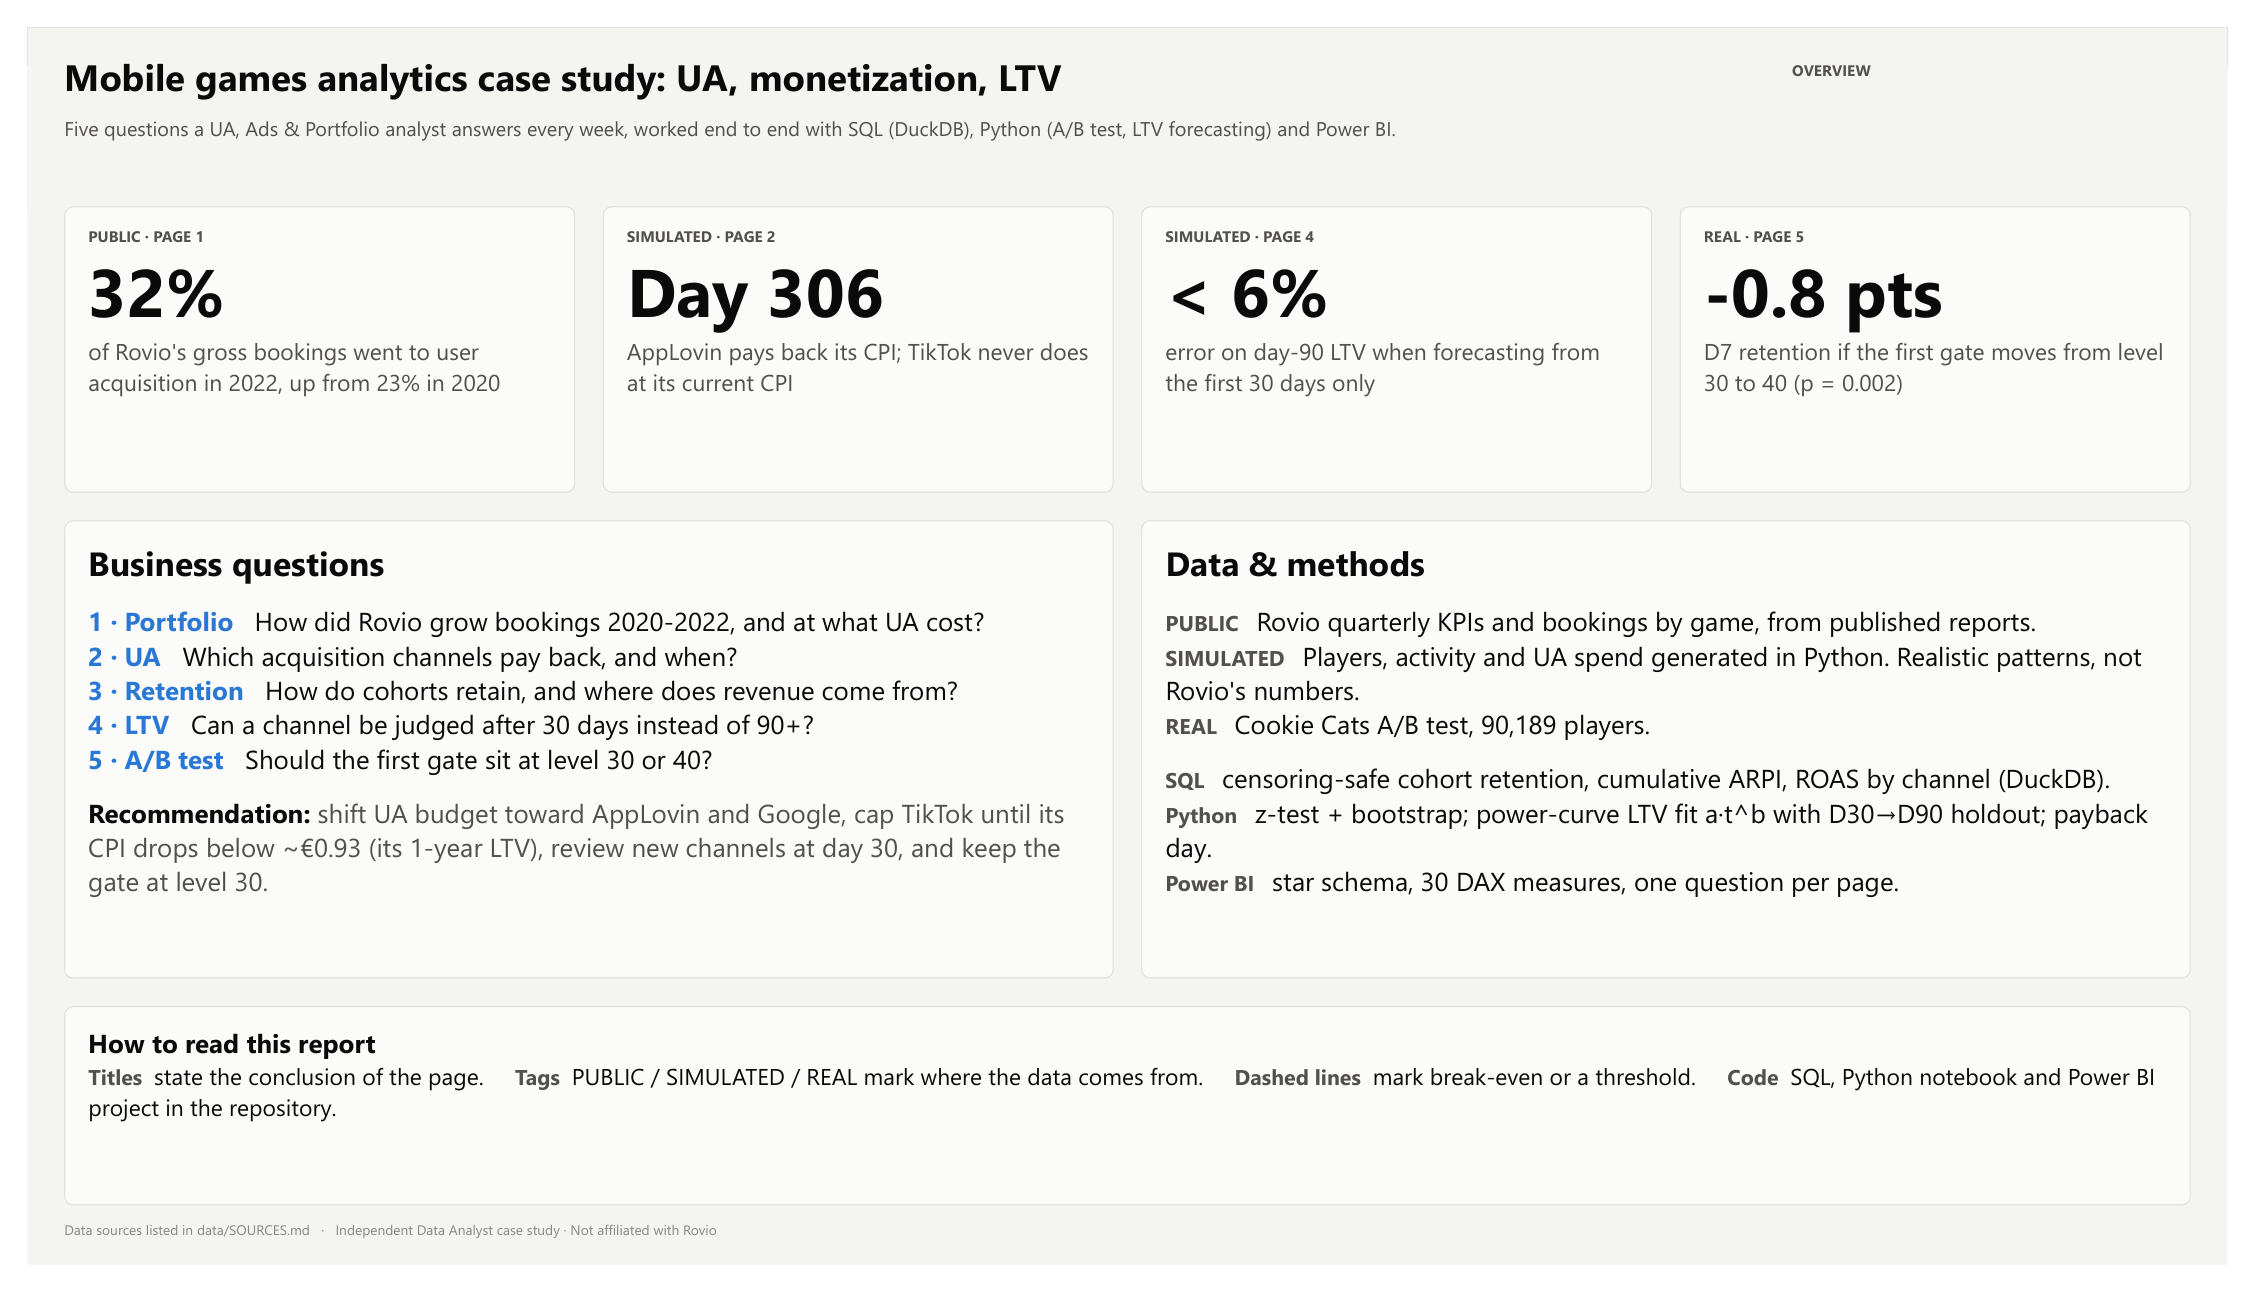

The dashboard page shown, as its layout file describes it:
{"tool":"powerbi","page":{"name":"Overview","canvas":[1920,1080],"ordinal":0},"visuals":[{"type":"textbox","box":[32,20,1500,56],"z":1000},{"type":"textbox","box":[1540,28,348,40],"z":2000},{"type":"textbox","box":[32,76,1856,64],"z":3000},{"type":"textbox","box":[32,156,446,250],"z":4000},{"type":"textbox","box":[502,156,446,250],"z":5000},{"type":"textbox","box":[972,156,446,250],"z":6000},{"type":"textbox","box":[1442,156,446,250],"z":7000},{"type":"textbox","box":[32,430,916,400],"z":8000},{"type":"textbox","box":[972,430,916,400],"z":9000},{"type":"textbox","box":[32,854,1856,174],"z":10000},{"type":"textbox","box":[32,1040,1856,32],"z":11000}]}

Visuals, with their boxes in screenshot pixels (x1, y1, x2, y2), scaled from the page's 1920x1080 canvas onto the 2255x1293 screenshot:
textbox: <region>38, 24, 1799, 91</region>
textbox: <region>1809, 34, 2217, 81</region>
textbox: <region>38, 91, 2217, 168</region>
textbox: <region>38, 187, 561, 486</region>
textbox: <region>590, 187, 1113, 486</region>
textbox: <region>1142, 187, 1665, 486</region>
textbox: <region>1694, 187, 2217, 486</region>
textbox: <region>38, 515, 1113, 994</region>
textbox: <region>1142, 515, 2217, 994</region>
textbox: <region>38, 1022, 2217, 1231</region>
textbox: <region>38, 1245, 2217, 1283</region>
